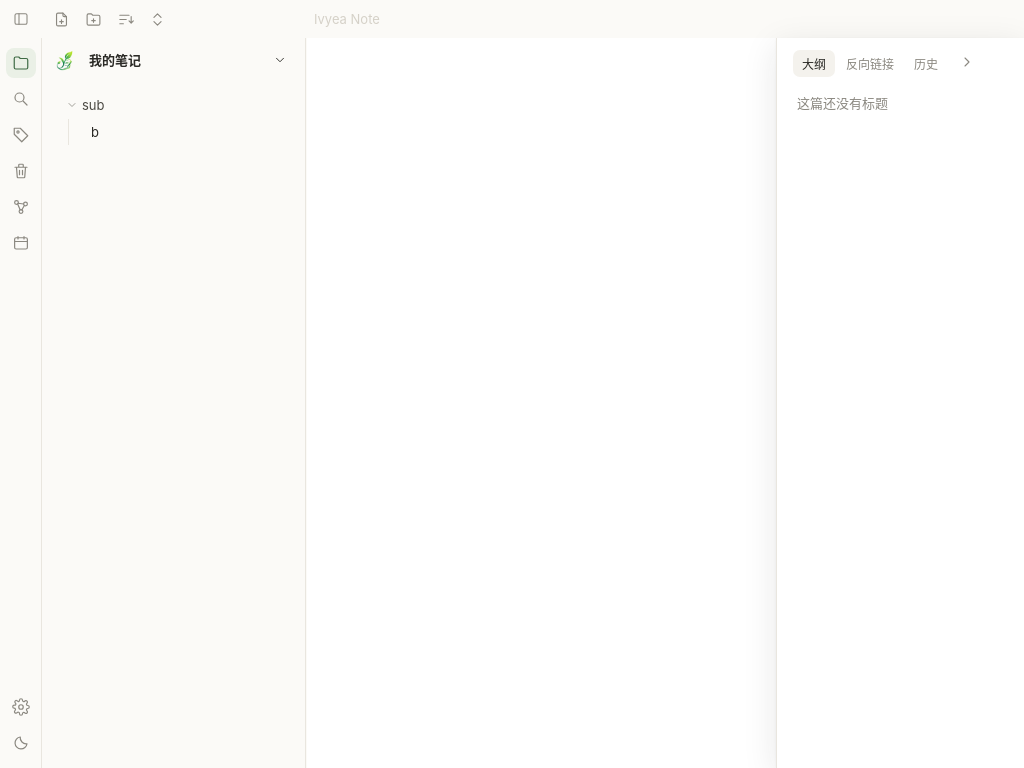
Scenario: 右键上下文菜单（E3） › 右键文件夹 → 出现文件夹动作集（不该有「删除笔记」）
Right-click the element with class "ft-dir" at (85, 105), box [66, 97, 104, 113]
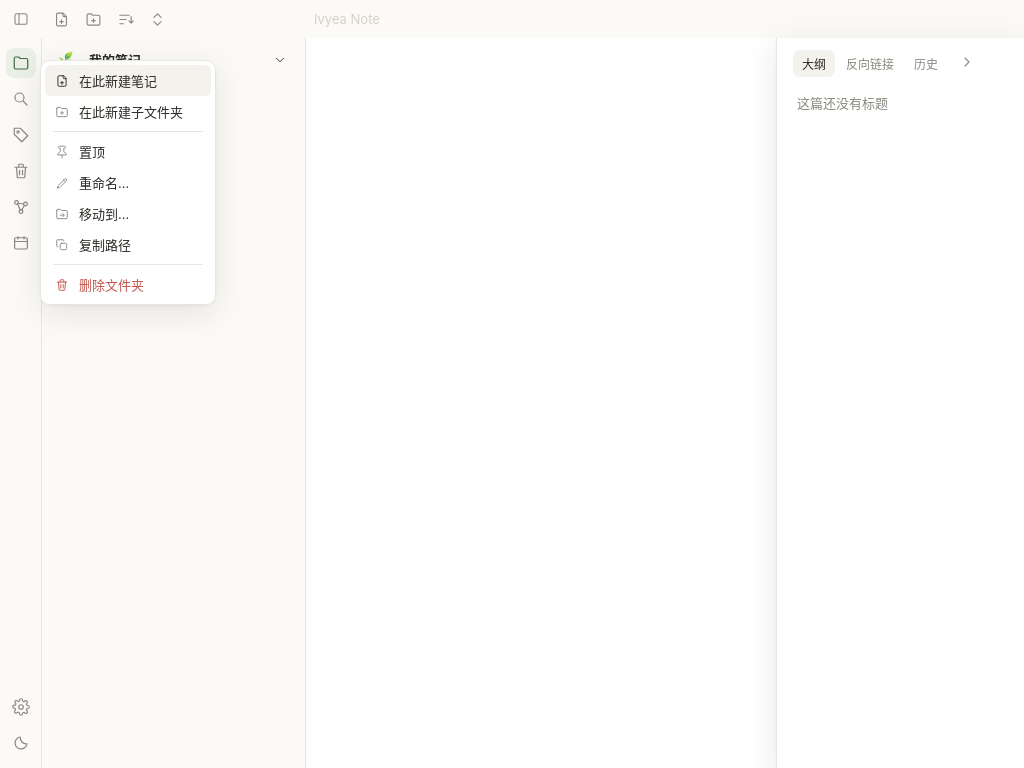
Expected: the menu is shown, [40, 60, 216, 305]
